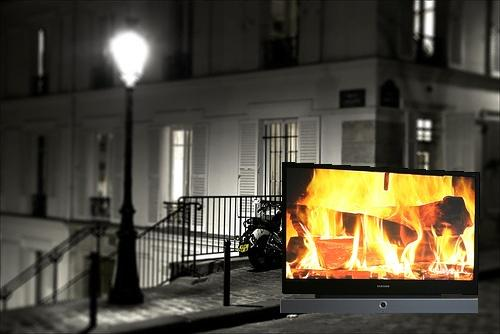tampered: (281, 163, 480, 313)
